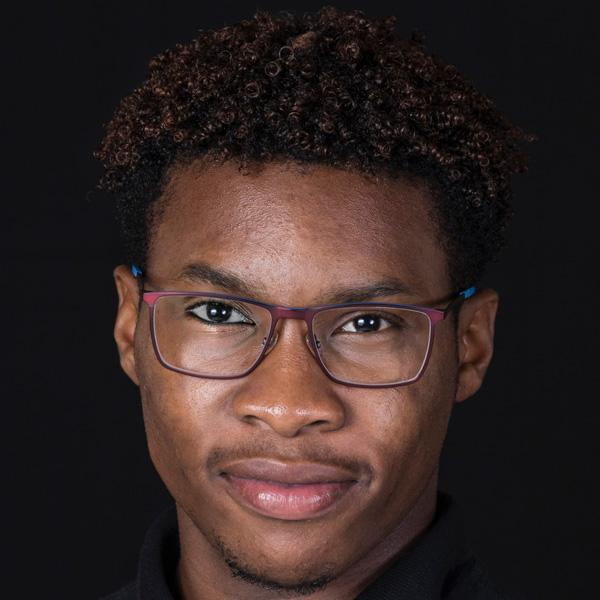Eyes: (177, 288, 262, 339), (328, 299, 409, 347)
